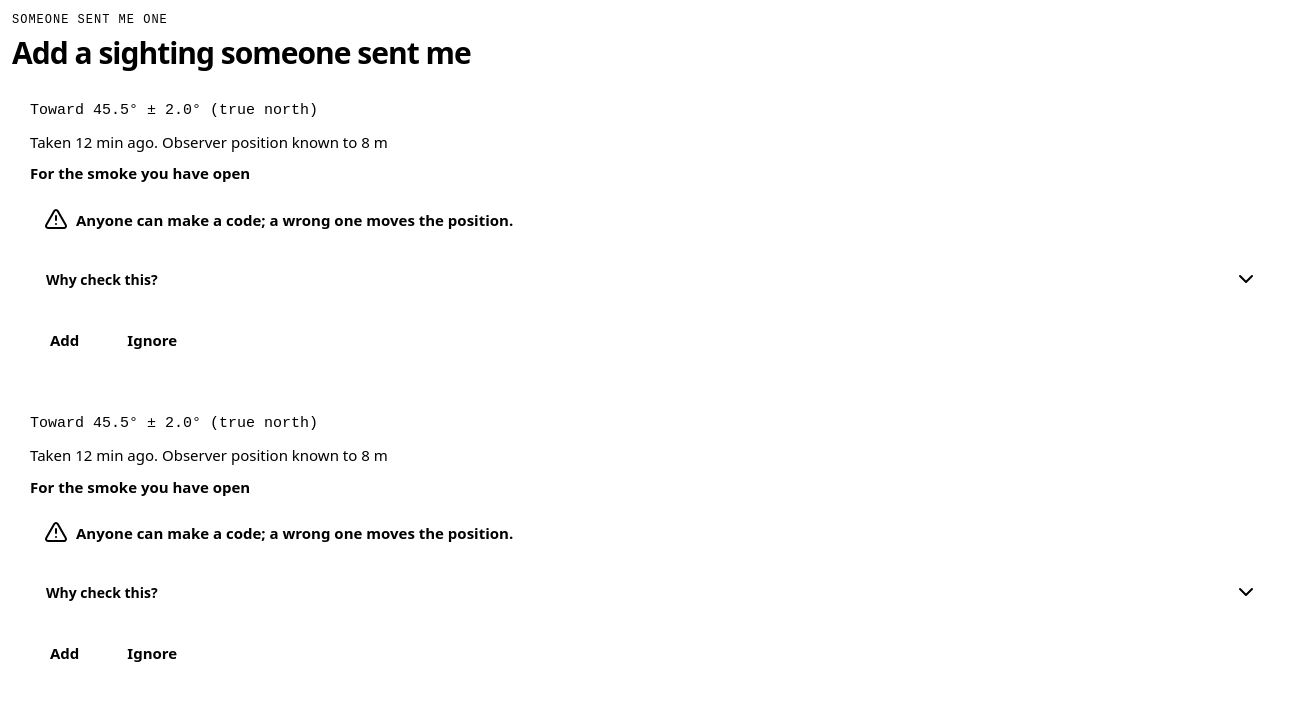
Test: a card (Req 9.4, 15.8) › Add puts it in the smoke and takes the card away; Ignore drops it
Earlier steps of the test are not shown.
Expected: the number of list items with test id "inbox-card" is 2, x1=12 y1=82 x2=1291 y2=383; x1=12 y1=395 x2=1291 y2=696
What coordinates should you click on to do the following:
click the 1st button "Add"
I would click on:
 (65, 340)
Its box is x1=30 y1=315 x2=99 y2=365.
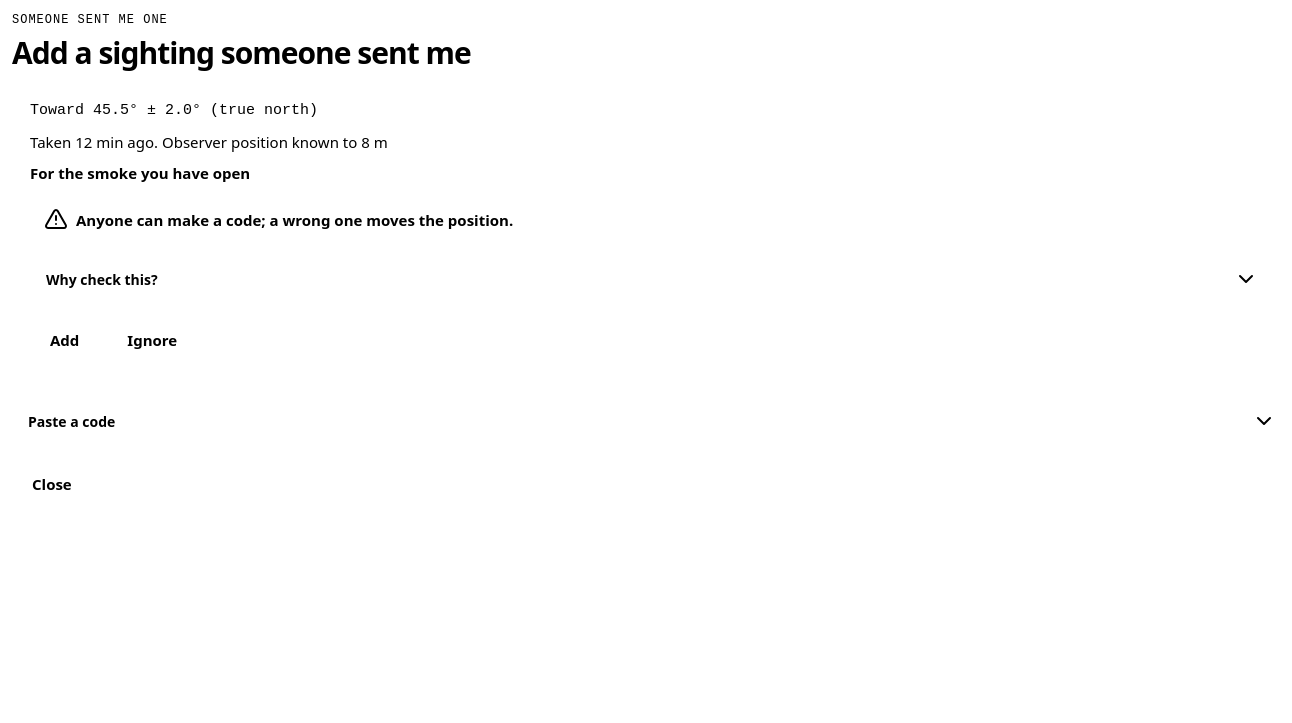
What coordinates should you click on to do the following:
click the button "Ignore"
I would click on:
 (152, 340)
Its box is x1=107 y1=315 x2=197 y2=365.
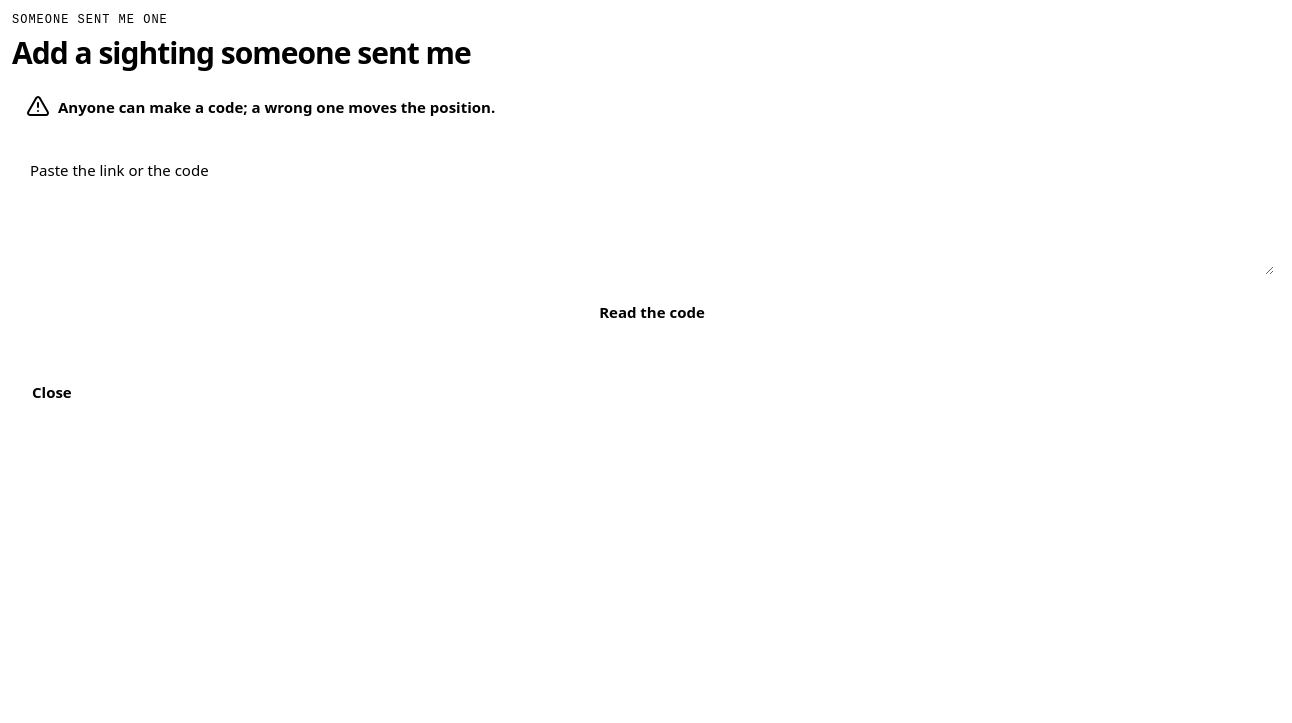
Result: no list items with test id "inbox-card" are shown
